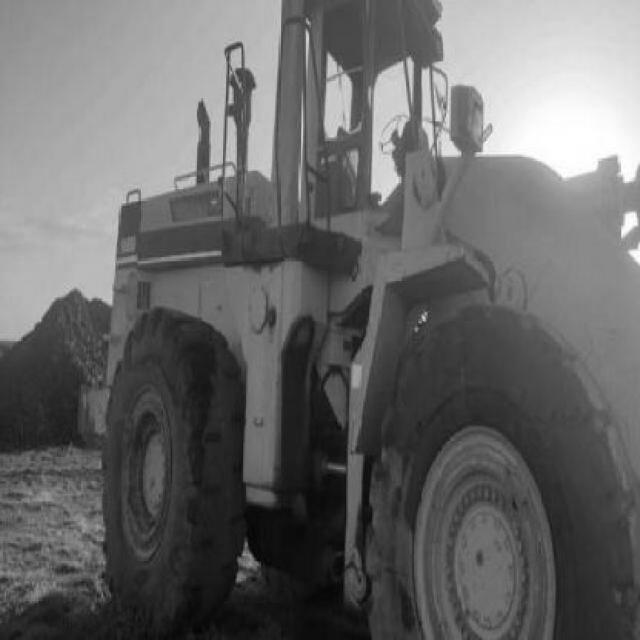Construction Equipment: (99, 0, 640, 640)
